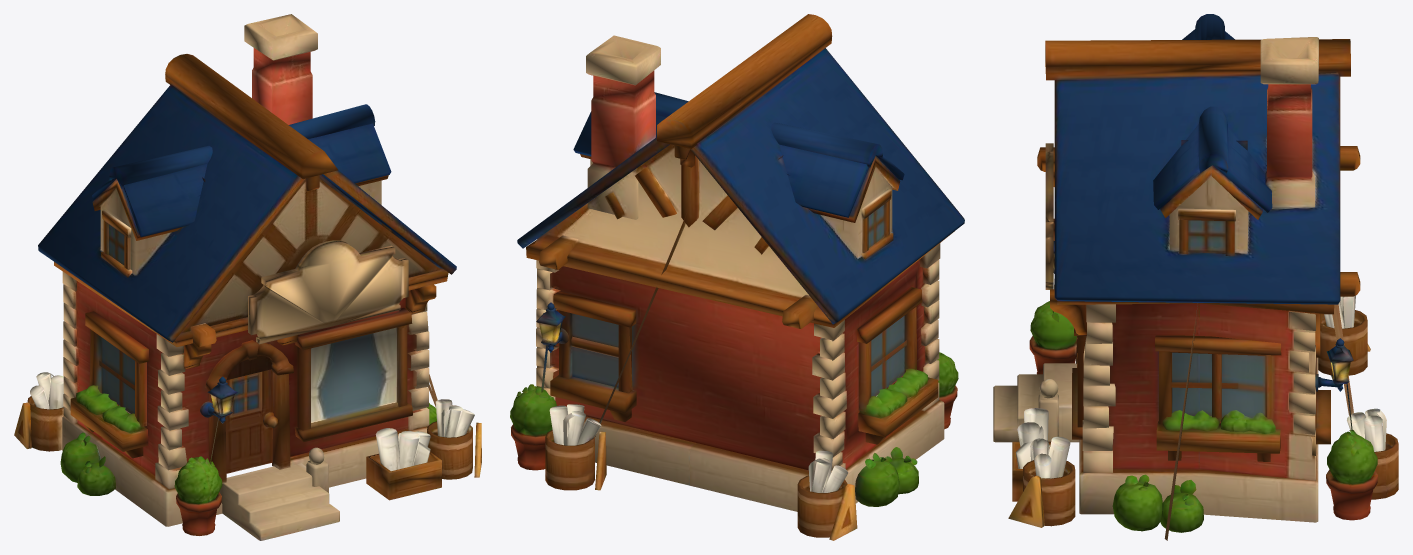
The picture shows the model from 3 angles, left to right: view 1: azimuth 30°, elevation 25°; view 2: azimuth 150°, elevation 25°; view 3: azimuth 270°, elevation 25°; orthographic projection. The views are drawn at different scales.
Parts seen in each view (by area): view 1: shop-architect; view 2: shop-architect; view 3: shop-architect.
Boxes of the visible parts, box(x1,y1,x2,y2) form: shop-architect: box(14, 14, 481, 540); shop-architect: box(510, 14, 964, 540); shop-architect: box(993, 14, 1398, 540).
Bounding box in the file's own units: 7.6 × 8.03 × 6.78.
1 material, 1 textured.
